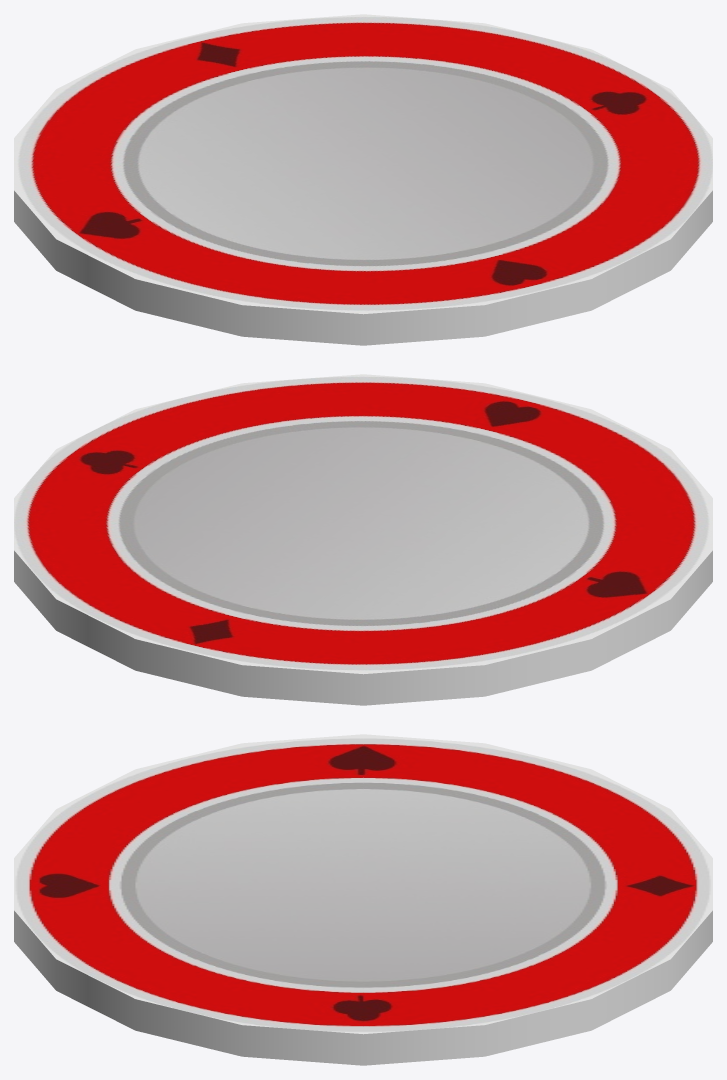
Rendered from pokerchip.FBX.
3 views of the same model, one above another, from view 1: azimuth 30°, elevation 25°; view 2: azimuth 150°, elevation 25°; view 3: azimuth 270°, elevation 25° (orthographic).
Visible parts, largest first — view 1: Cylinder001; view 2: Cylinder001; view 3: Cylinder001.
Part boxes in pixels (left/top/right/bottom): Cylinder001: left=14, top=14, right=712, bottom=345; Cylinder001: left=14, top=374, right=712, bottom=705; Cylinder001: left=14, top=734, right=712, bottom=1065.
Bounding box in the file's own units: 135 × 6.63 × 133.
1 material, 1 textured.
